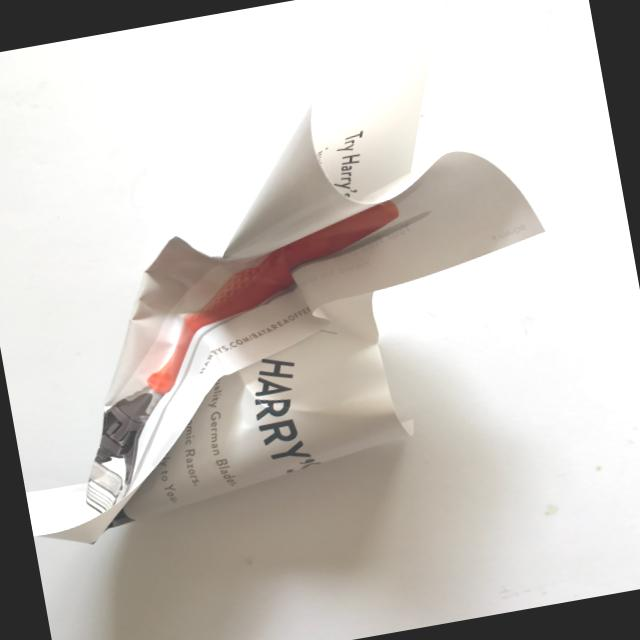Paper: (0, 6, 589, 554)
